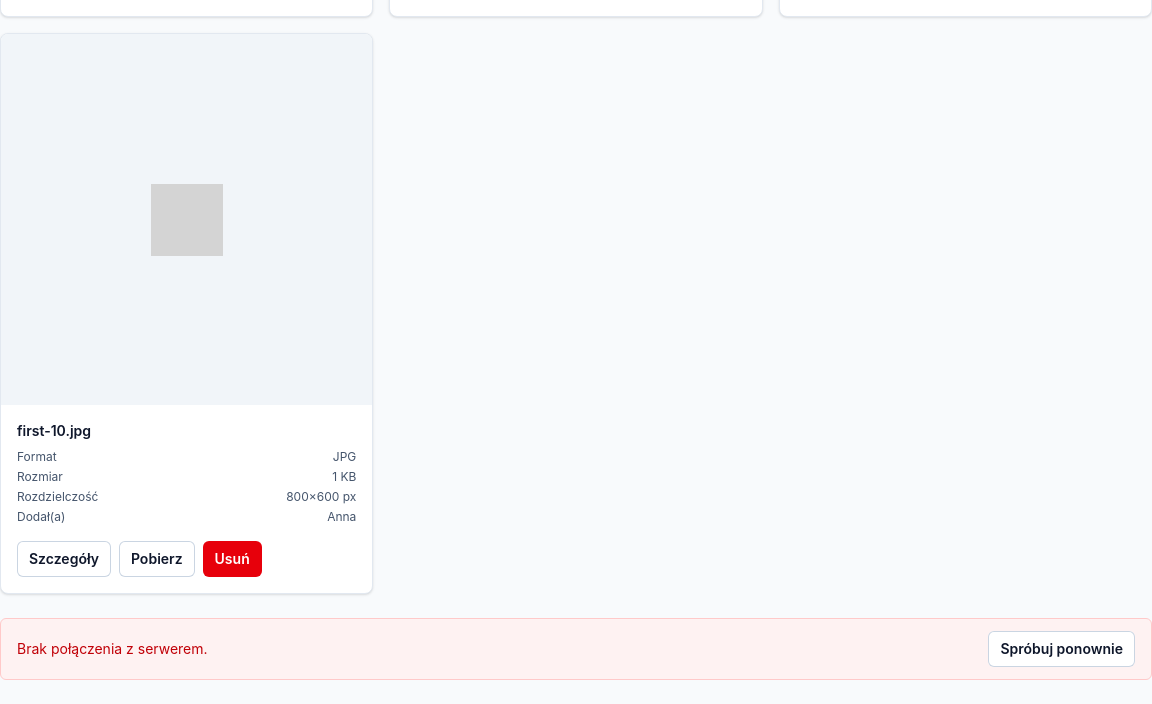
Test: ImageList › waits for retry instead of reloading the next page in a loop after it fails
(page scrolled)
Expected: the message shows "Brak połączenia z serwerem.", [17,640,208,657]
Click the button "Spróbuj ponownie" at [1062, 649], box [988,631,1135,667]
(page scrolled)
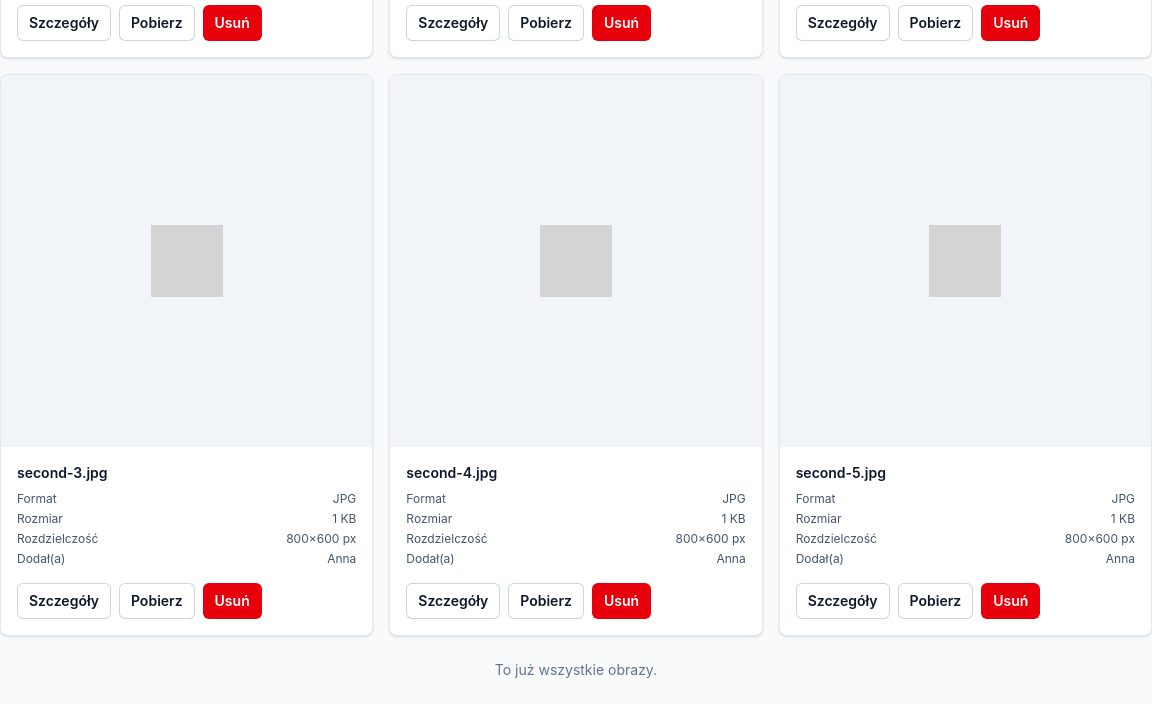
Expected: the text "To już wszystkie obrazy." is shown, [495,661,657,678]
